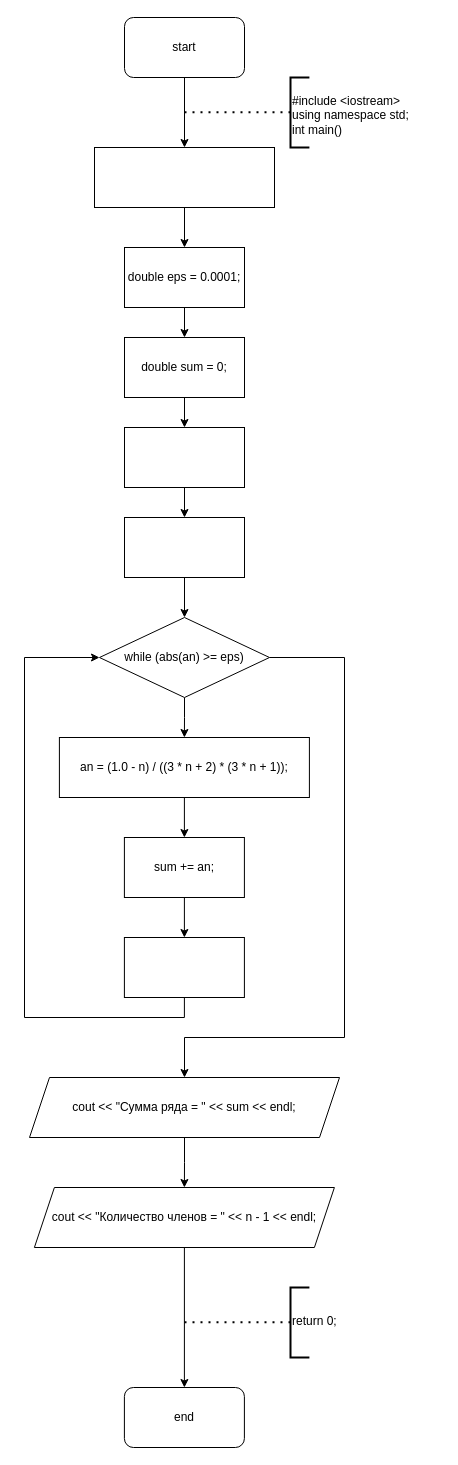
The diagram is 458 pixels wide and 1465 high, and some of its shapes have lost their labels. Here are the shapes that lost their labels. From the top down, the centre of each, then its label:
pixel 184 177: setlocale(LC_ALL, "Russian");
pixel 184 457: double an = 1;
pixel 184 547: int n = 1;
pixel 183 967: n++;
